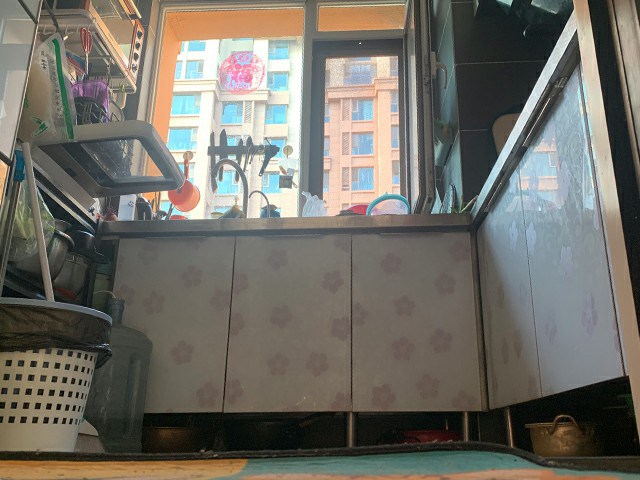cabinet: (105, 212, 479, 449), (476, 43, 639, 461)
carpet: (1, 451, 640, 480)
trashcan: (1, 295, 113, 453)
